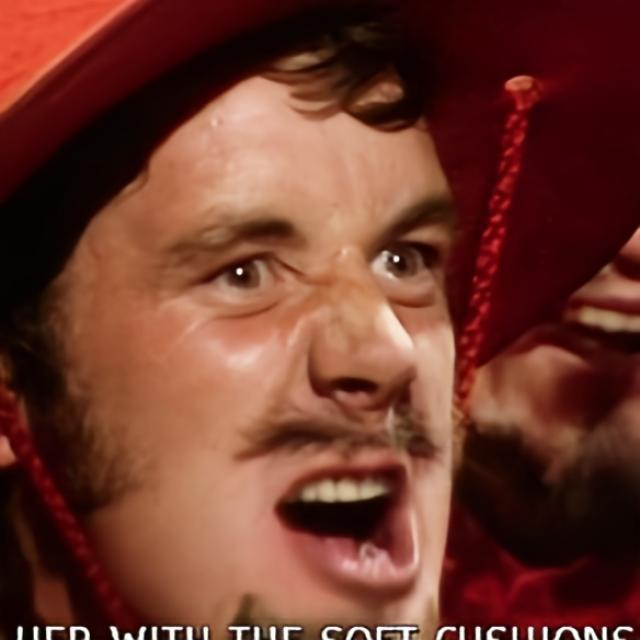anger: (84, 60, 460, 632)
